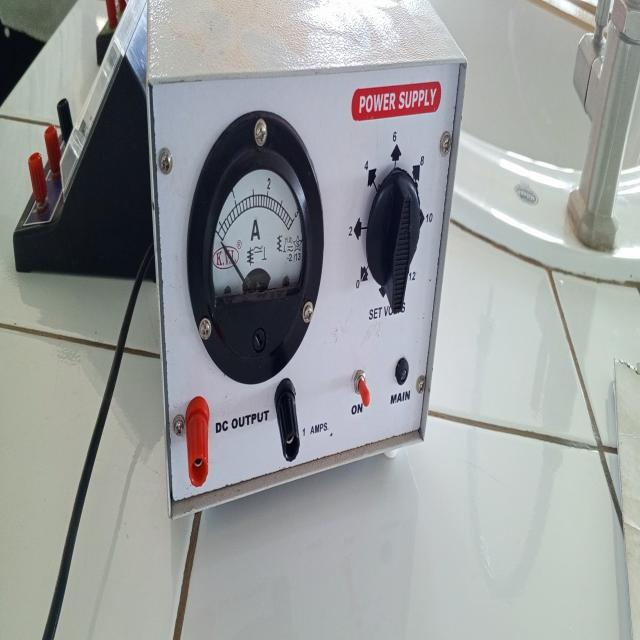Ammeter Analog: (8, 3, 149, 273)
